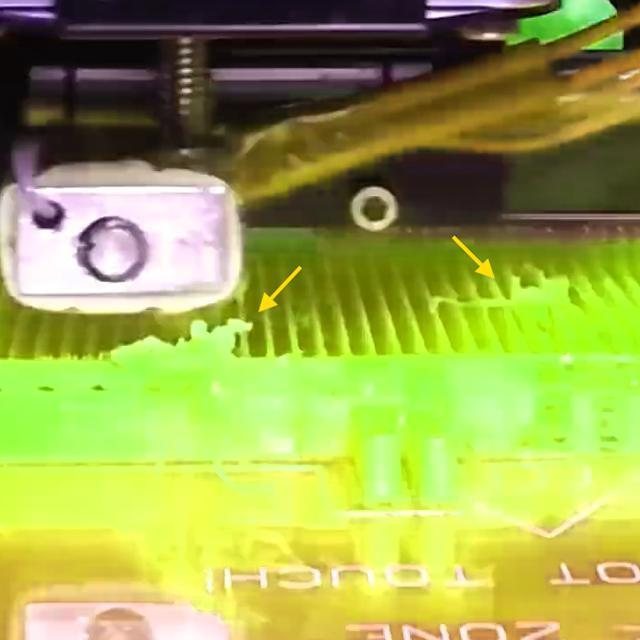spaghetti: (110, 318, 257, 371), (428, 278, 569, 312)
